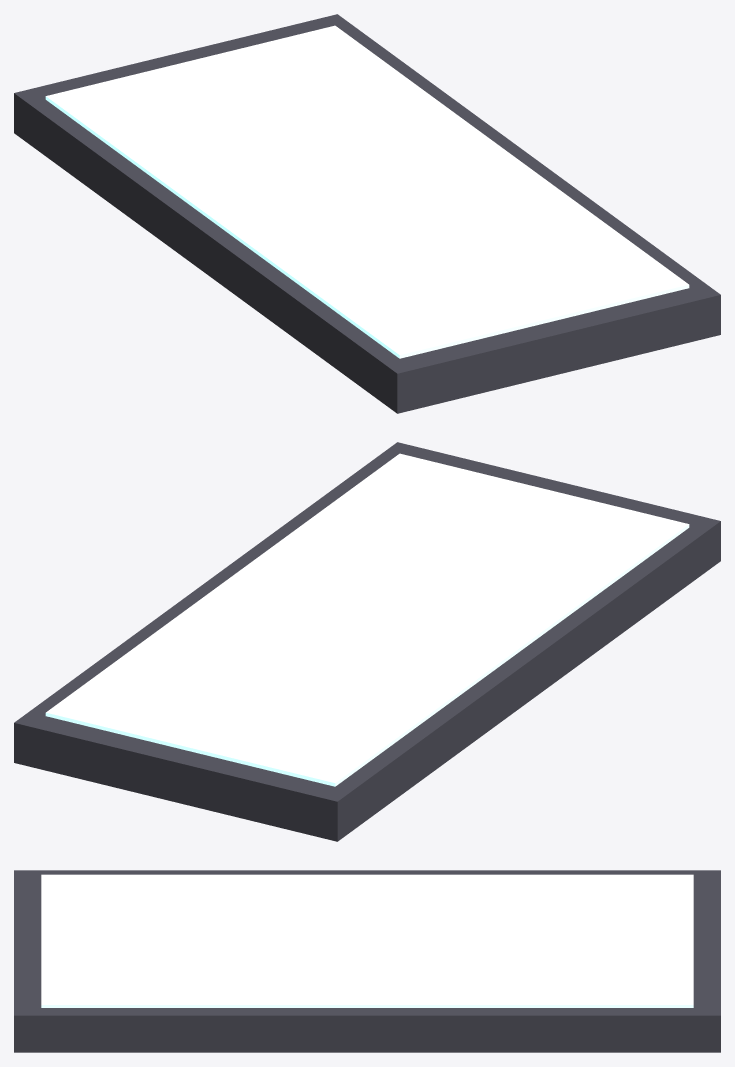
File: phone.glb
3 renders of one model, top to bottom at view 1: azimuth 30°, elevation 25°; view 2: azimuth 150°, elevation 25°; view 3: azimuth 270°, elevation 25°, orthographic. The views are drawn at different scales.
Parts seen in each view (by area): view 1: Phone_Screen, Phone_Body; view 2: Phone_Screen, Phone_Body; view 3: Phone_Screen, Phone_Body.
Boxes of the visible parts, x1,y1,x2,y2 form: Phone_Screen: [45, 25, 689, 358]; Phone_Body: [14, 14, 720, 413]; Phone_Screen: [45, 453, 689, 786]; Phone_Body: [14, 442, 720, 841]; Phone_Screen: [41, 874, 693, 1007]; Phone_Body: [14, 870, 720, 1052].
Bounding box in the file's own units: 0.076 × 0.0143 × 0.156.
